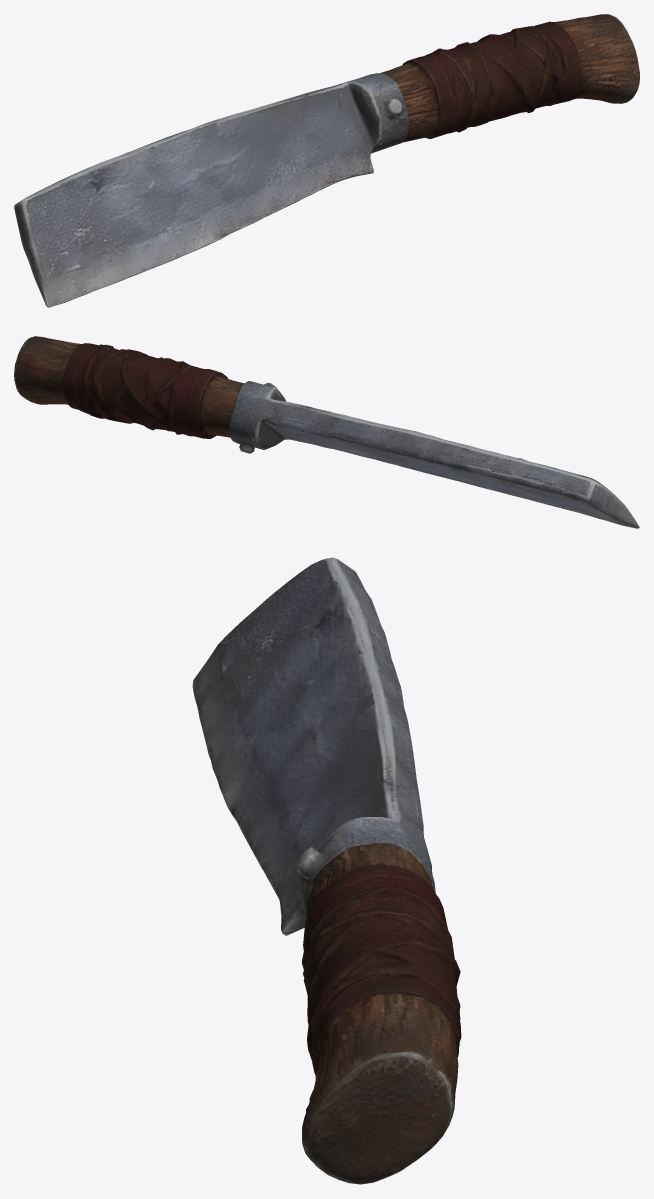
3 renders of one model, top to bottom at view 1: azimuth 30°, elevation 25°; view 2: azimuth 150°, elevation 25°; view 3: azimuth 270°, elevation 25°, orthographic. The views are drawn at different scales.
Visible parts, largest first — view 1: tripo_node_04117cee-51ba-4279-be4b-3c5672a0e485; view 2: tripo_node_04117cee-51ba-4279-be4b-3c5672a0e485; view 3: tripo_node_04117cee-51ba-4279-be4b-3c5672a0e485.
Boxes of the visible parts, x1,y1,x2,y2 form: tripo_node_04117cee-51ba-4279-be4b-3c5672a0e485: (14, 14, 639, 307); tripo_node_04117cee-51ba-4279-be4b-3c5672a0e485: (14, 336, 639, 528); tripo_node_04117cee-51ba-4279-be4b-3c5672a0e485: (192, 557, 461, 1184).
Bounding box in the file's own units: 0.9816 × 0.1615 × 0.2014.
Materials: 1 (1 with a texture image).
